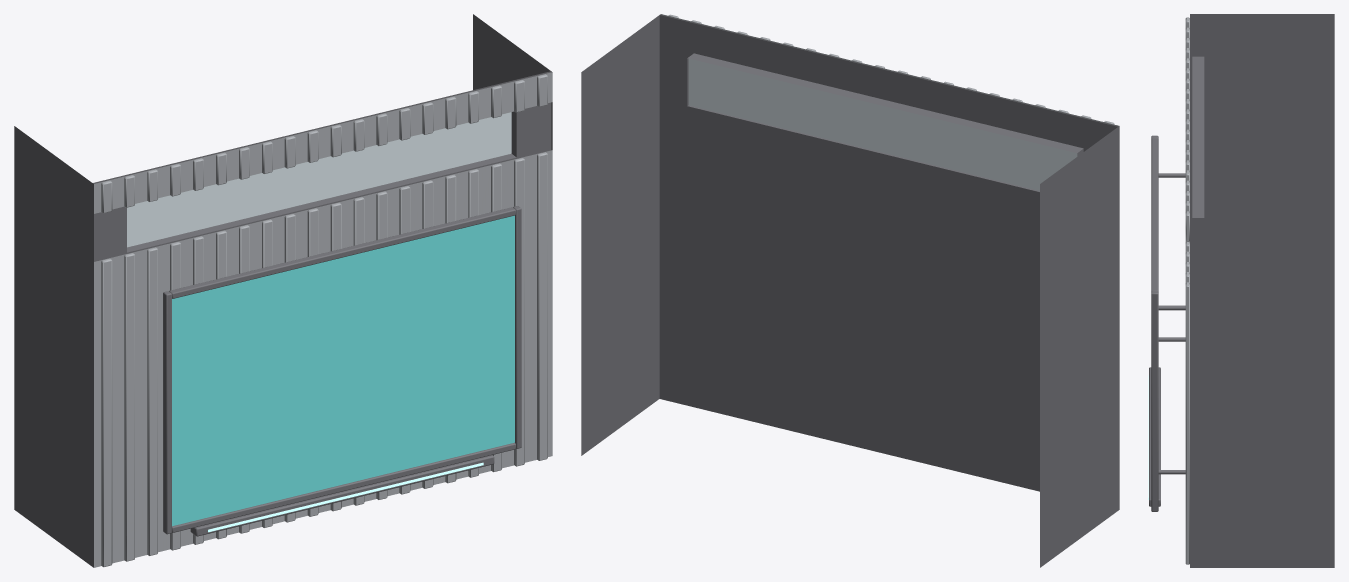
Rendered from retro_upper_4c.glb.
The picture shows the model from 3 angles, left to right: view 1: azimuth 30°, elevation 25°; view 2: azimuth 150°, elevation 25°; view 3: azimuth 270°, elevation 25°; orthographic projection. The views are drawn at different scales.
Parts seen in each view (by area): view 1: retro_upper_4c; view 2: retro_upper_4c; view 3: retro_upper_4c.
Part boxes in pixels (x1,y1,x2,y2): retro_upper_4c: (14,14,552,567); retro_upper_4c: (581,14,1119,567); retro_upper_4c: (1148,14,1334,567).
Bounding box in the file's own units: 4 × 3.2 × 1.55.
